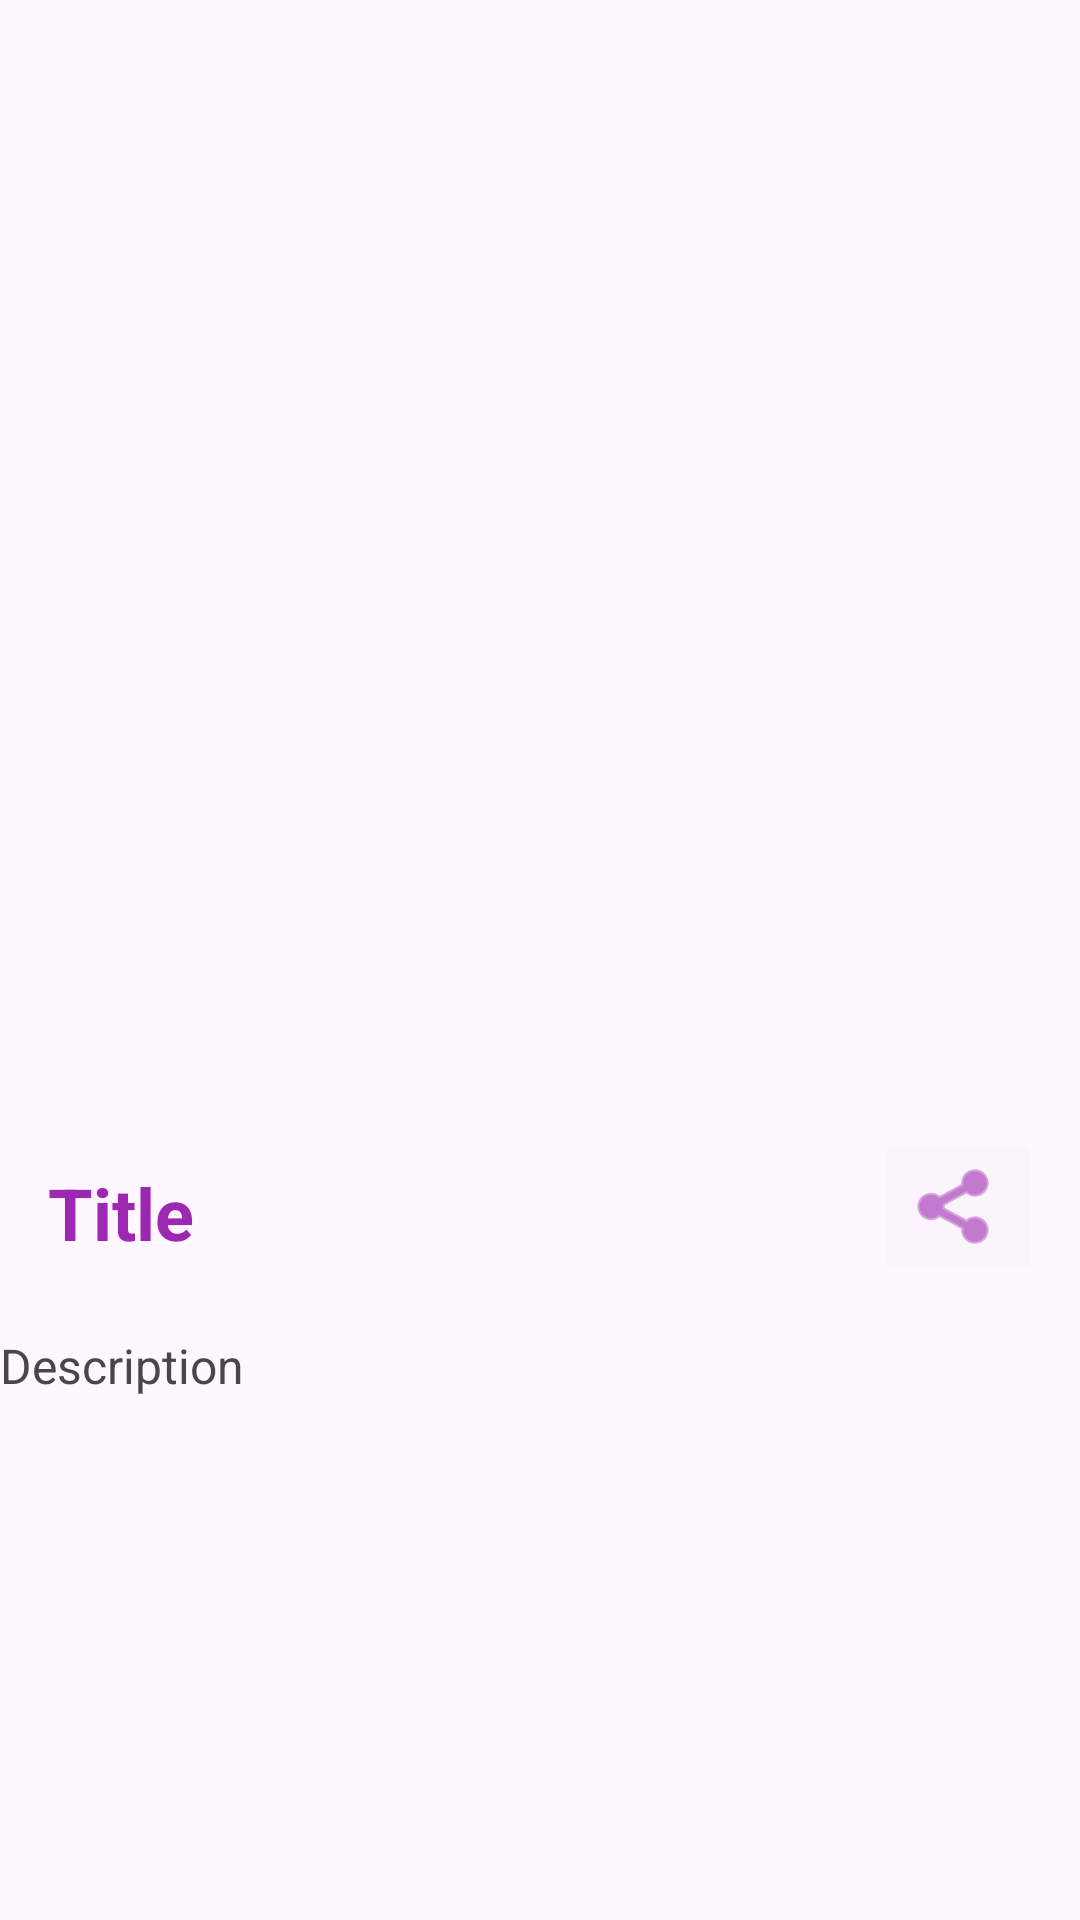

Point at icon controls on the screen. Image size 1080×1920, points as [x,y].
share: [953,1206]
